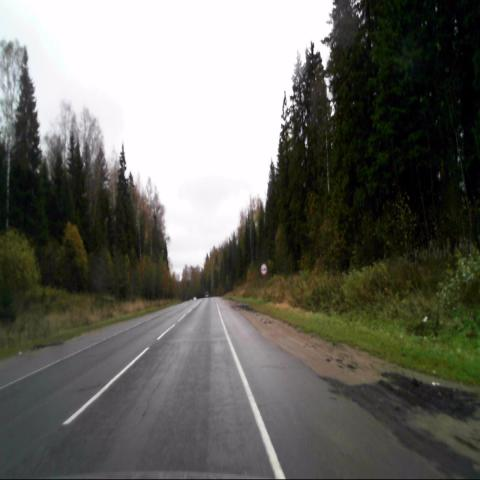3_20: (259, 262, 267, 276)
